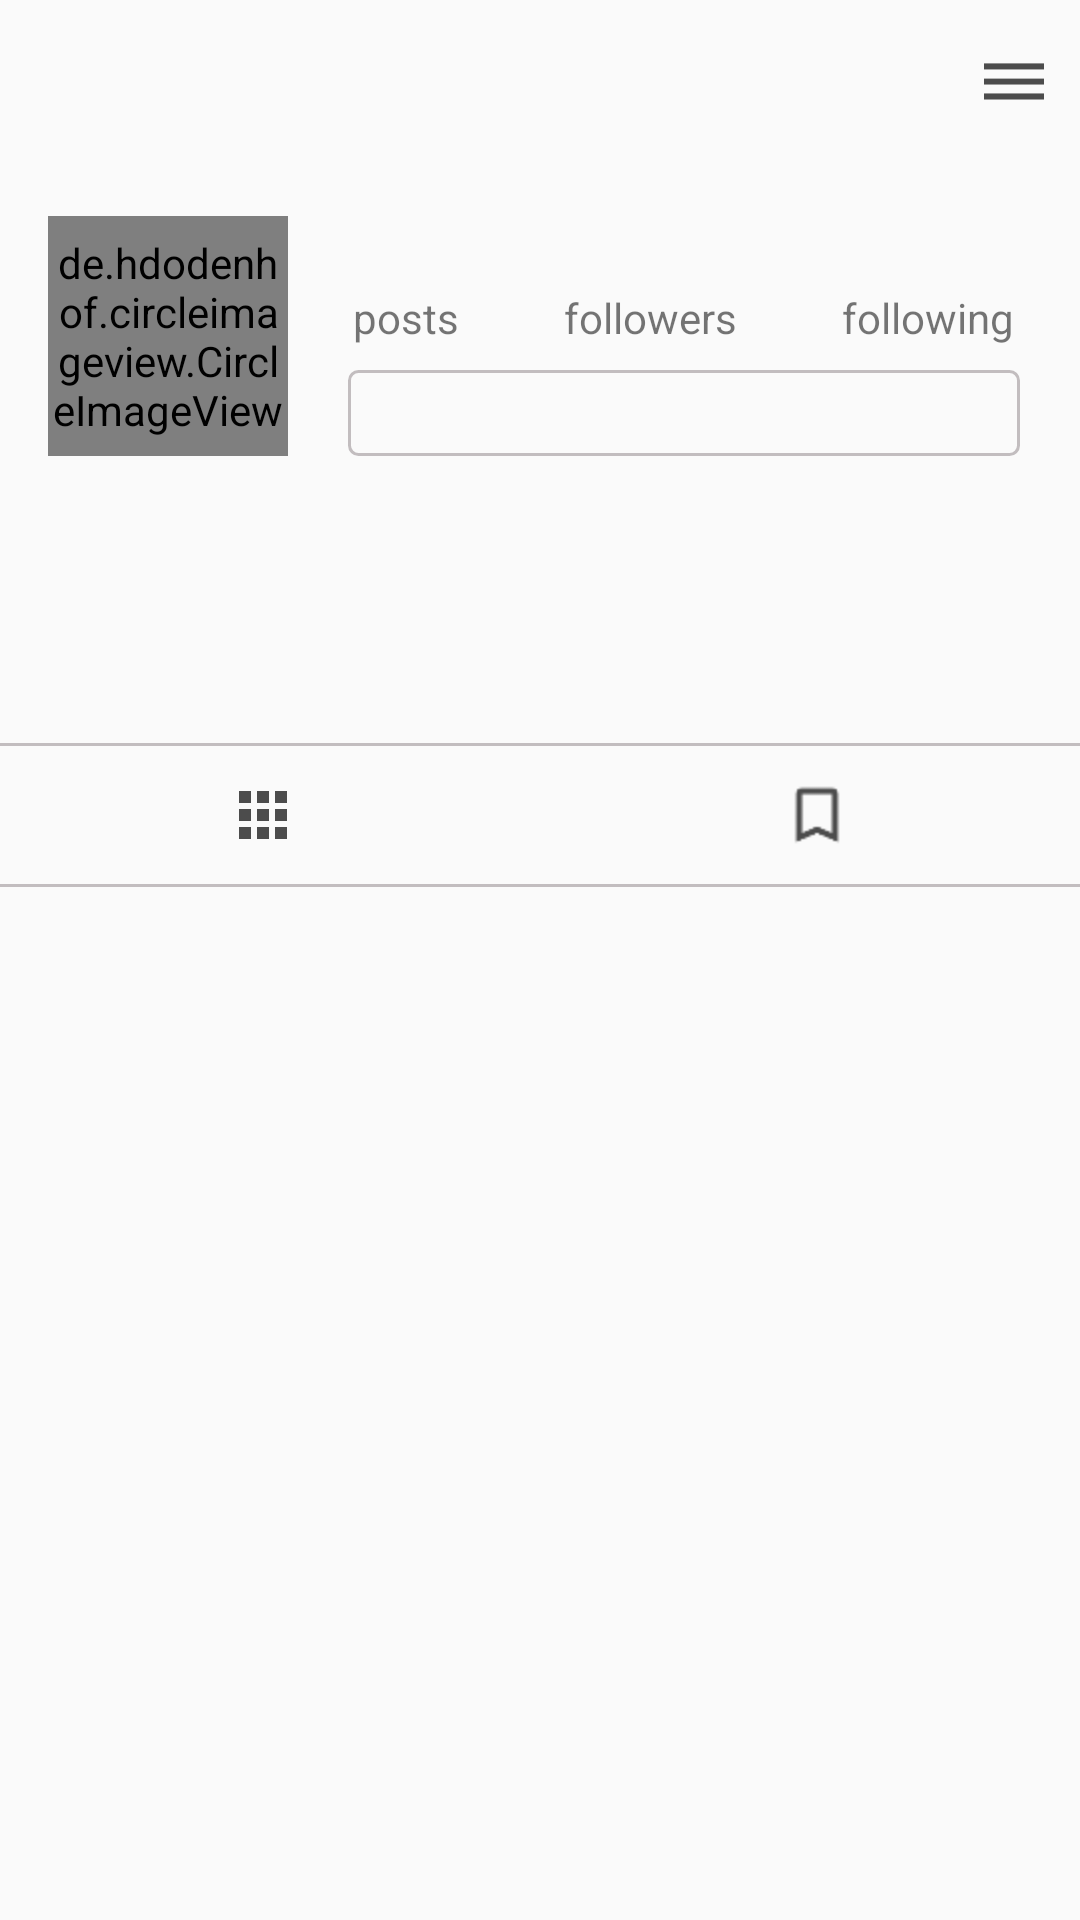

Screen size 1080px×1920px. Icon name, then its box in pixels as detection(x1, y1, x2, y2):
options: detection(984, 63, 1044, 100)
